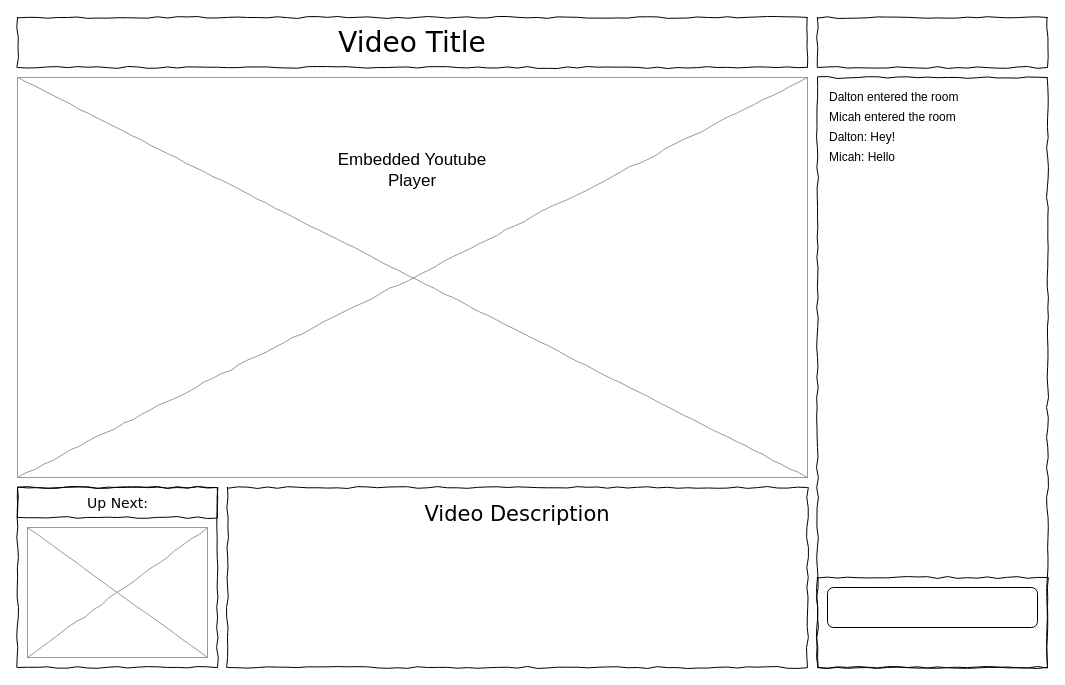
This 1065x685 diagram has some shape labels left out. Here are the shapes that lost their labels. From the top down, the centre of each, then its label:
At point 932,42: "LOGO".
At point 932,607: "Hello Everybody!".
